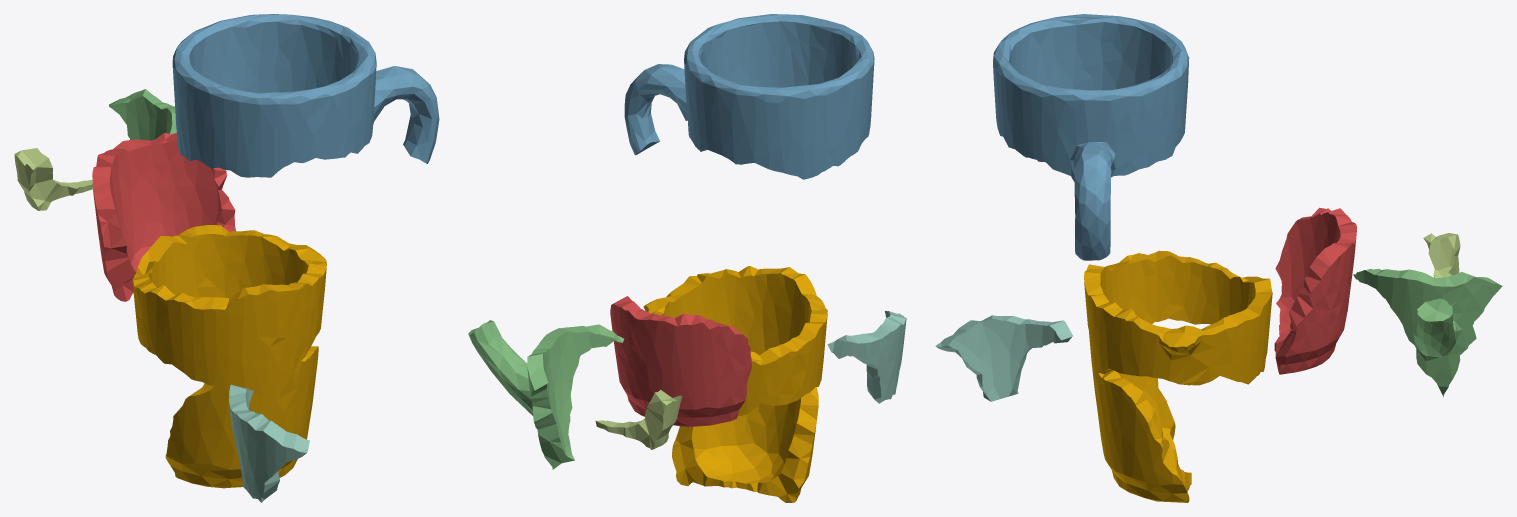
The model's file is fractured_5_6pcs_transformed.glb.
3 renders of one model, left to right at view 1: azimuth 30°, elevation 25°; view 2: azimuth 150°, elevation 25°; view 3: azimuth 270°, elevation 25°, orthographic. The views are drawn at different scales.
Parts seen in each view (by area): view 1: piece_0.obj, piece_2.obj, piece_1.obj, piece_4.obj, piece_5.obj, piece_3.obj; view 2: piece_2.obj, piece_0.obj, piece_1.obj, piece_3.obj, piece_4.obj, piece_5.obj; view 3: piece_2.obj, piece_0.obj, piece_1.obj, piece_3.obj, piece_4.obj, piece_5.obj.
Boxes of the visible parts, left/top/right/bottom form: piece_0.obj: left=132, top=225, right=326, bottom=488; piece_2.obj: left=172, top=14, right=439, bottom=177; piece_1.obj: left=92, top=133, right=235, bottom=301; piece_4.obj: left=229, top=384, right=309, bottom=502; piece_5.obj: left=14, top=148, right=92, bottom=210; piece_3.obj: left=109, top=89, right=176, bottom=140; piece_2.obj: left=624, top=14, right=874, bottom=179; piece_0.obj: left=643, top=266, right=827, bottom=502; piece_1.obj: left=610, top=296, right=751, bottom=427; piece_3.obj: left=468, top=320, right=623, bottom=469; piece_4.obj: left=827, top=311, right=906, bottom=403; piece_5.obj: left=595, top=389, right=682, bottom=449; piece_2.obj: left=993, top=14, right=1189, bottom=260; piece_0.obj: left=1084, top=250, right=1272, bottom=502; piece_1.obj: left=1274, top=207, right=1357, bottom=374; piece_3.obj: left=1353, top=269, right=1502, bottom=396; piece_4.obj: left=935, top=315, right=1073, bottom=401; piece_5.obj: left=1423, top=233, right=1460, bottom=277.
Size of the model in its own units: 0.9508 by 1.6 by 1.94.
